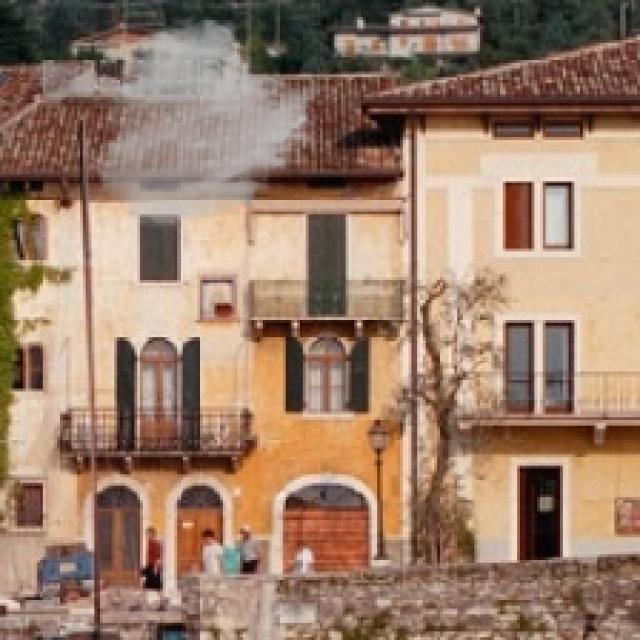smoke: (91, 14, 326, 229)
